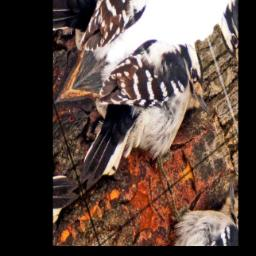Woodpecker: (55, 0, 229, 244)
